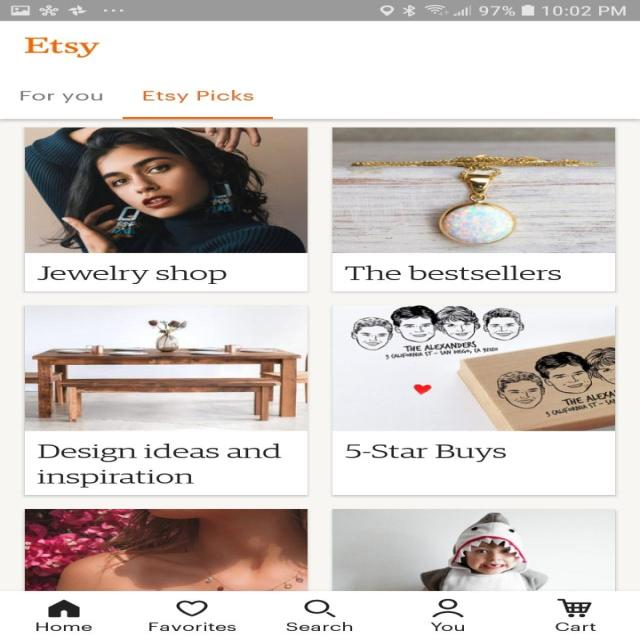Icon: (556, 598, 592, 617), (431, 598, 463, 617), (48, 599, 80, 617), (304, 599, 335, 617), (176, 599, 208, 616)
Image: (332, 128, 616, 253), (24, 128, 308, 253), (25, 306, 308, 431), (332, 306, 614, 431), (25, 509, 308, 590), (332, 509, 614, 590)
Text: (36, 443, 281, 488), (36, 264, 226, 284), (344, 265, 560, 281), (345, 443, 506, 462), (24, 37, 100, 58), (142, 89, 254, 103), (20, 91, 104, 104), (148, 622, 235, 631), (285, 621, 352, 631), (36, 622, 91, 631), (554, 621, 596, 631), (429, 622, 464, 631)
